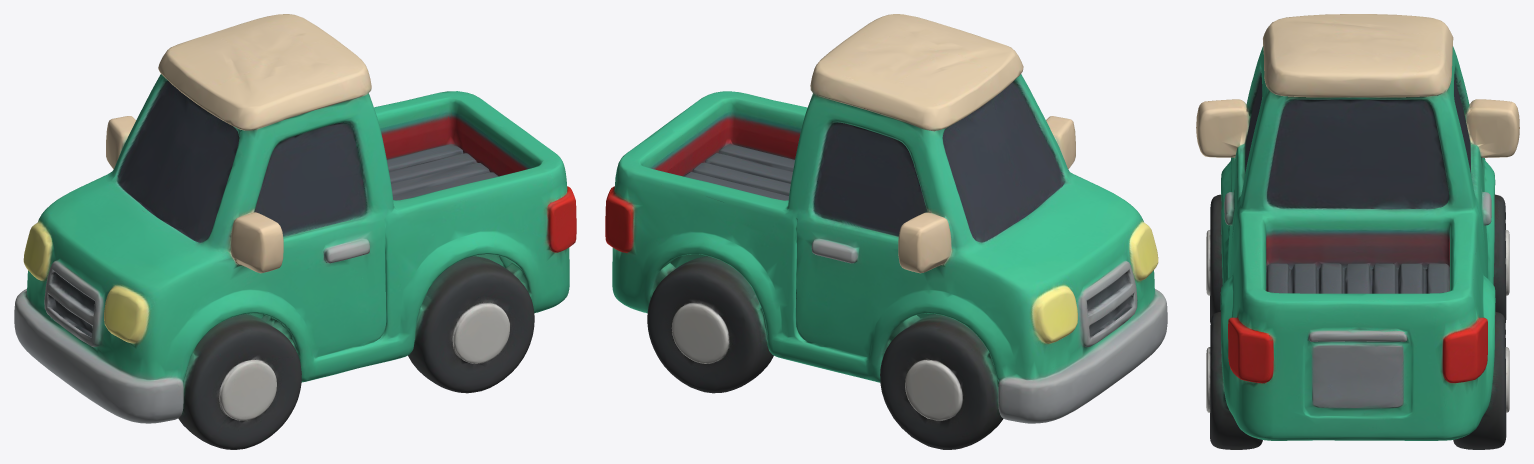
File: carro 5.glb
3 views of the same model, side by side, from view 1: azimuth 30°, elevation 25°; view 2: azimuth 150°, elevation 25°; view 3: azimuth 270°, elevation 25° (orthographic). The views are drawn at different scales.
Visible parts, largest first — view 1: tripo_node_3d740488-e613-4737-b184-3152acdf304d; view 2: tripo_node_3d740488-e613-4737-b184-3152acdf304d; view 3: tripo_node_3d740488-e613-4737-b184-3152acdf304d.
Boxes of the visible parts, bbox=[...] form: tripo_node_3d740488-e613-4737-b184-3152acdf304d: bbox=[14, 14, 576, 449]; tripo_node_3d740488-e613-4737-b184-3152acdf304d: bbox=[605, 14, 1167, 449]; tripo_node_3d740488-e613-4737-b184-3152acdf304d: bbox=[1196, 14, 1519, 449].
Size of the model in its own units: 1 by 0.6682 by 0.5832.
1 material, 1 textured.
